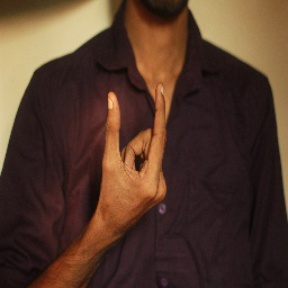U: (88, 74, 173, 213)
